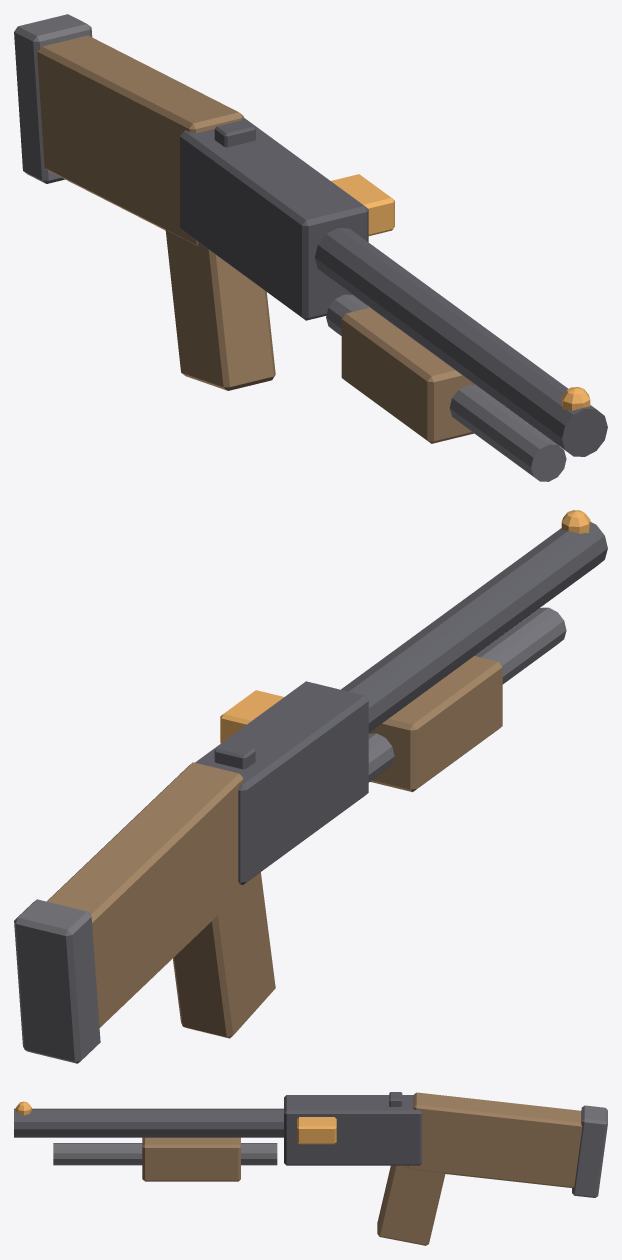
File: Shotgun.fbx
3 views of the same model, one above another, from view 1: azimuth 30°, elevation 25°; view 2: azimuth 150°, elevation 25°; view 3: azimuth 270°, elevation 25° (orthographic). The views are drawn at different scales.
Visible parts, largest first — view 1: Stock, Receiver, Barrel, StockGrip, Pump, MagTube, StockButt, ShellHolder, SightRear; view 2: Stock, Receiver, Barrel, StockButt, StockGrip, Pump, MagTube, ShellHolder, SightRear; view 3: Stock, Receiver, Barrel, Pump, StockGrip, MagTube, StockButt, ShellHolder.
Part boxes in pixels (box(x1,y1,x2,y2)): Stock: box(37, 35, 243, 245); Receiver: box(180, 117, 368, 320); Barrel: box(315, 228, 607, 456); StockGrip: box(165, 230, 275, 390); Pump: box(341, 307, 475, 443); MagTube: box(326, 294, 566, 481); StockButt: box(14, 14, 92, 183); ShellHolder: box(331, 174, 394, 235); SightRear: box(214, 120, 255, 147); Stock: box(47, 762, 250, 1027); Receiver: box(180, 681, 368, 885); Barrel: box(341, 521, 607, 732); StockButt: box(14, 899, 100, 1063); StockGrip: box(173, 872, 275, 1038); Pump: box(368, 656, 502, 792); MagTube: box(368, 607, 566, 782); ShellHolder: box(220, 690, 283, 743); SightRear: box(214, 741, 255, 769); Stock: box(407, 1092, 582, 1187); Receiver: box(284, 1095, 421, 1165); Barrel: box(14, 1108, 283, 1137); Pump: box(142, 1137, 240, 1181); StockGrip: box(377, 1165, 445, 1245); MagTube: box(53, 1143, 277, 1165); StockButt: box(572, 1105, 607, 1197); ShellHolder: box(297, 1117, 336, 1144).
Size of the model in its own units: 0.104 by 0.242 by 0.9023.
